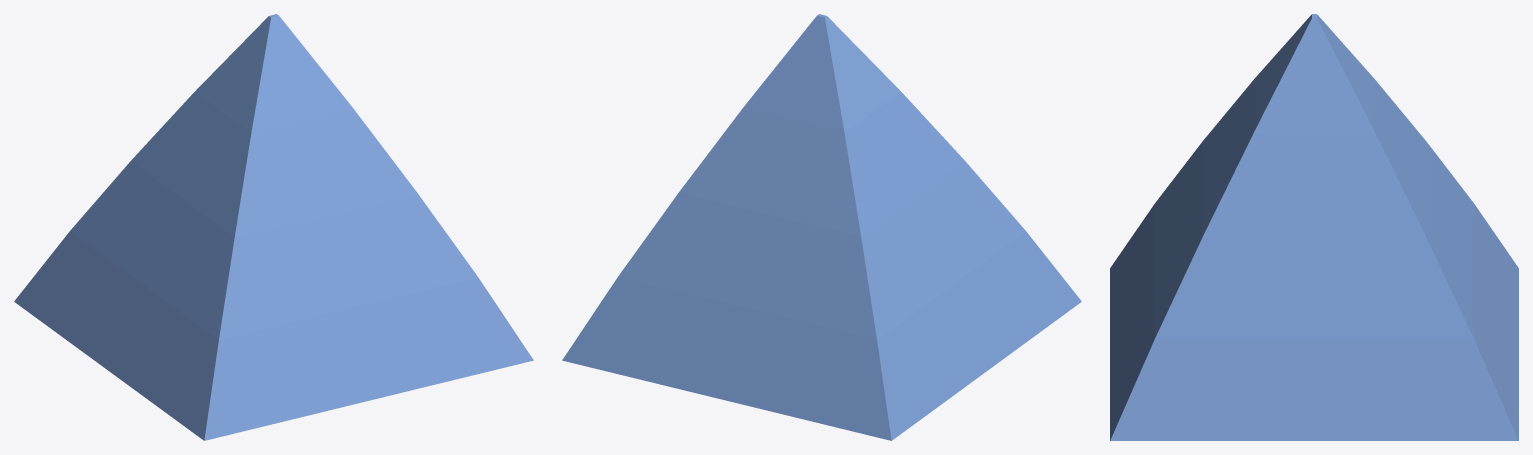
The model's file is Luvr.fbx.
3 renders of one model, left to right at view 1: azimuth 30°, elevation 25°; view 2: azimuth 150°, elevation 25°; view 3: azimuth 270°, elevation 25°, orthographic. The views are drawn at different scales.
Parts seen in each view (by area): view 1: Cube.006, Cube.007, Cube.008, Cube; view 2: Cube.006, Cube.007, Cube.008, Cube; view 3: Cube.006, Cube.007, Cube.008, Cube.
Boxes of the visible parts, x1,y1,x2,y2 form: Cube.006: (14,231,533,440); Cube.007: (70,161,477,339); Cube.008: (131,91,416,236); Cube: (195,14,352,132); Cube.006: (562,231,1081,440); Cube.007: (618,161,1025,339); Cube.008: (679,91,964,236); Cube: (743,14,900,132); Cube.006: (1110,204,1518,440); Cube.007: (1154,141,1474,339); Cube.008: (1203,80,1425,236); Cube: (1254,14,1374,132).
Bounding box in the file's own units: 223 × 204 × 223.
